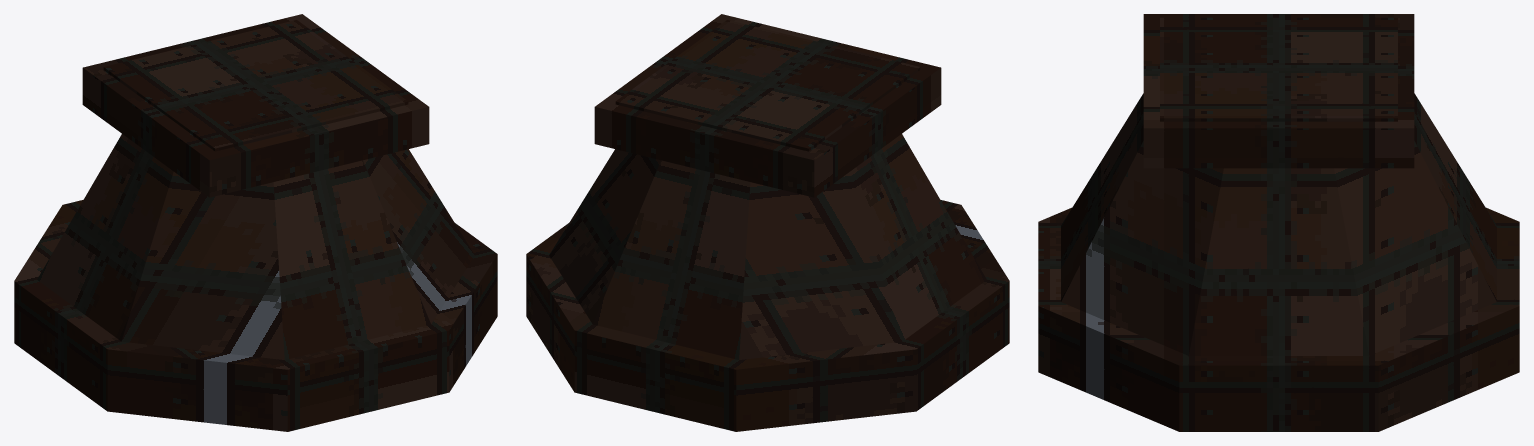
File: enemy_role_drifter.glb
3 views of the same model, side by side, from view 1: azimuth 30°, elevation 25°; view 2: azimuth 150°, elevation 25°; view 3: azimuth 270°, elevation 25° (orthographic). The views are drawn at different scales.
Visible parts, largest first — view 1: enemy_role_drifter; view 2: enemy_role_drifter; view 3: enemy_role_drifter.
Boxes of the visible parts, <box> form: enemy_role_drifter: <box>14,14,497,431</box>; enemy_role_drifter: <box>526,14,1009,431</box>; enemy_role_drifter: <box>1038,14,1519,431</box>.
Bounding box in the file's own units: 1.25 × 0.8166 × 1.25.
Materials: 4 (4 with a texture image).
